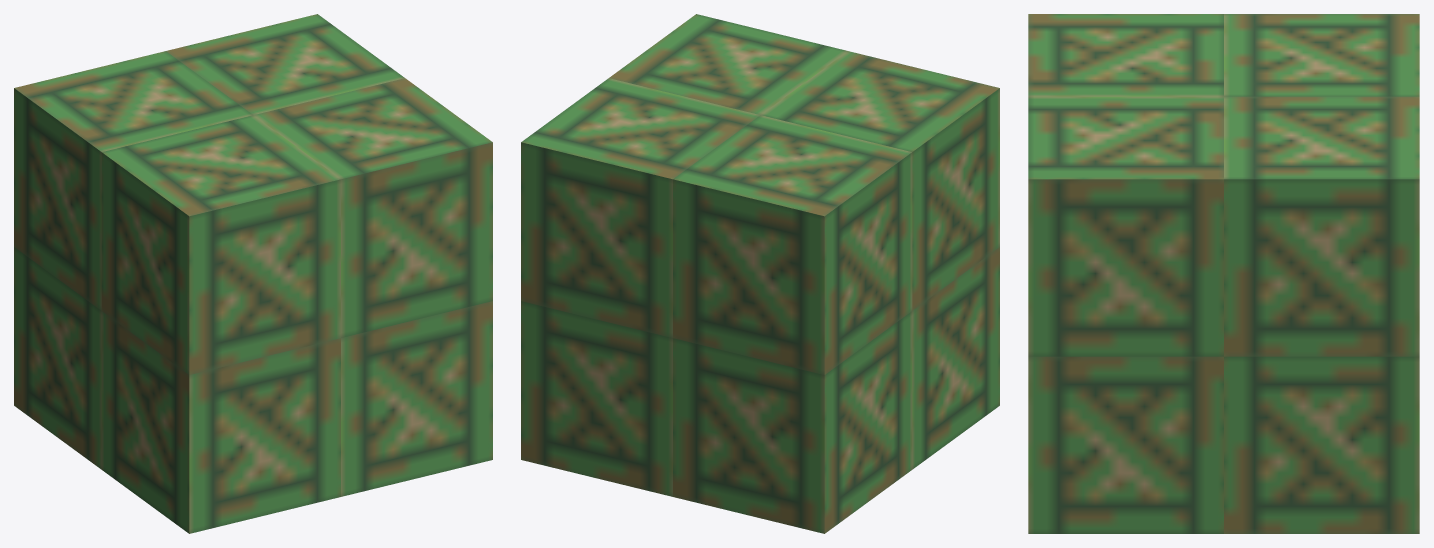
Rendered from cube-squared-32x32x32.obj.
3 views of the same model, side by side, from view 1: azimuth 30°, elevation 25°; view 2: azimuth 150°, elevation 25°; view 3: azimuth 270°, elevation 25° (orthographic). The views are drawn at different scales.
Parts seen in each view (by area): view 1: Default; view 2: Default; view 3: Default.
Part boxes in pixels (left/top/right/bottom): Default: left=14, top=14, right=492, bottom=533; Default: left=521, top=14, right=999, bottom=533; Default: left=1028, top=14, right=1419, bottom=533.
Size of the model in its own units: 2 by 2 by 2.
